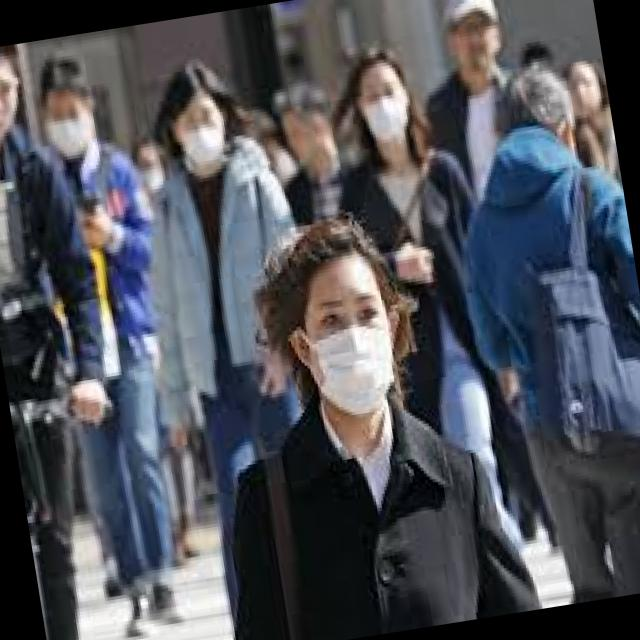Jacket: (201, 389, 541, 640), (438, 125, 640, 455), (123, 140, 334, 452), (330, 144, 506, 382), (22, 131, 175, 371), (0, 123, 107, 402)
